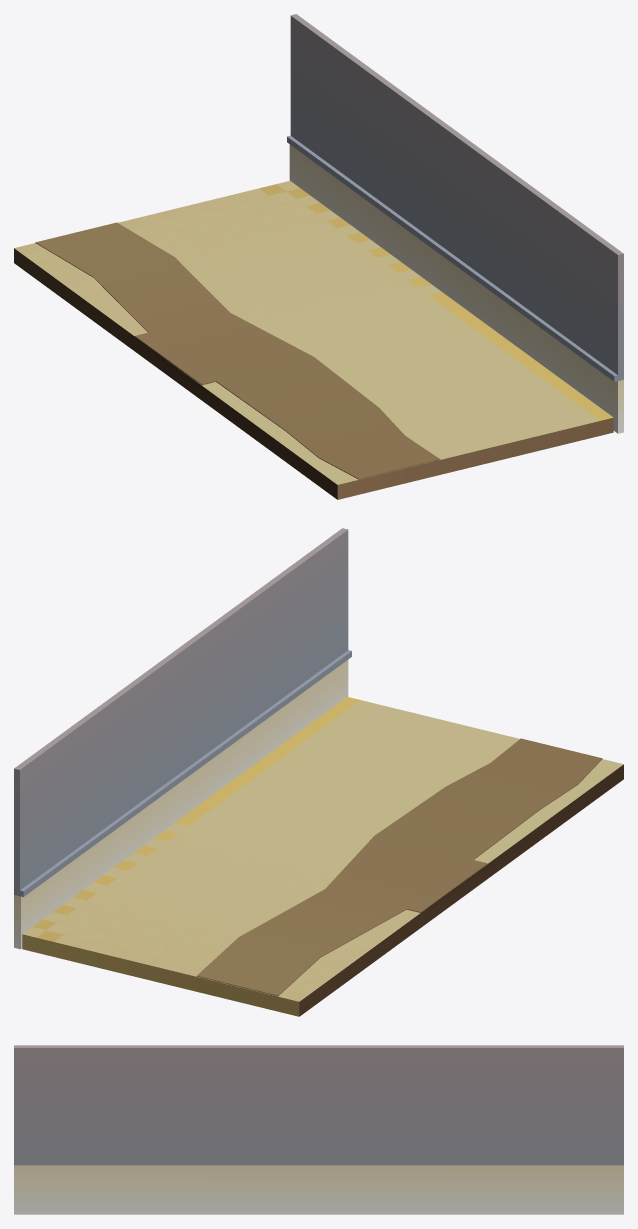
File: base_market.glb
3 views of the same model, one above another, from view 1: azimuth 30°, elevation 25°; view 2: azimuth 150°, elevation 25°; view 3: azimuth 270°, elevation 25° (orthographic). The views are drawn at different scales.
Visible parts, largest first — view 1: Cube001, Plane001, Plane; view 2: Cube001, Plane001, Plane; view 3: Plane001.
Boxes of the visible parts, x1,y1,x2,y2 form: Cube001: (14, 181, 613, 499); Plane001: (287, 14, 623, 433); Plane: (35, 222, 440, 479); Cube001: (22, 696, 623, 1016); Plane001: (14, 528, 351, 949); Plane: (196, 738, 602, 996); Plane001: (14, 1045, 623, 1214).
Bounding box in the file's own units: 3.37 × 2.03 × 6.74.
1 material, 1 textured.
